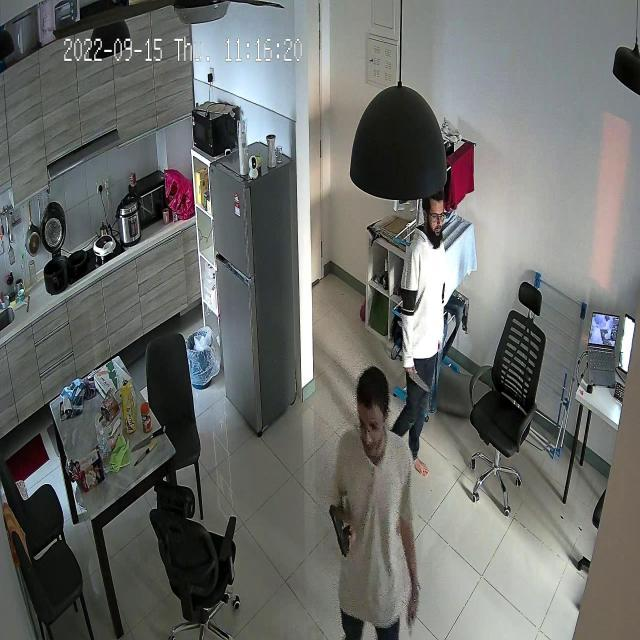Gun: (318, 494, 362, 564)
Knife: (397, 353, 445, 412)
